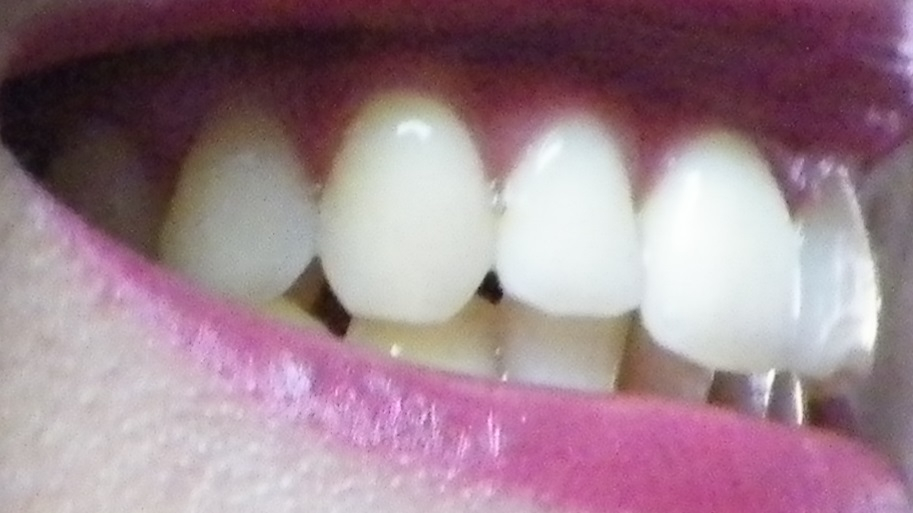boca: (75, 102, 913, 431)
